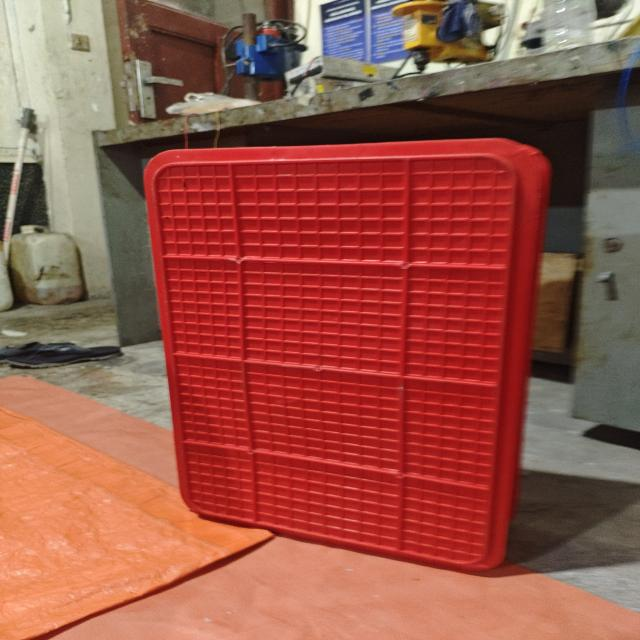red plastic box: (143, 138, 553, 570)
